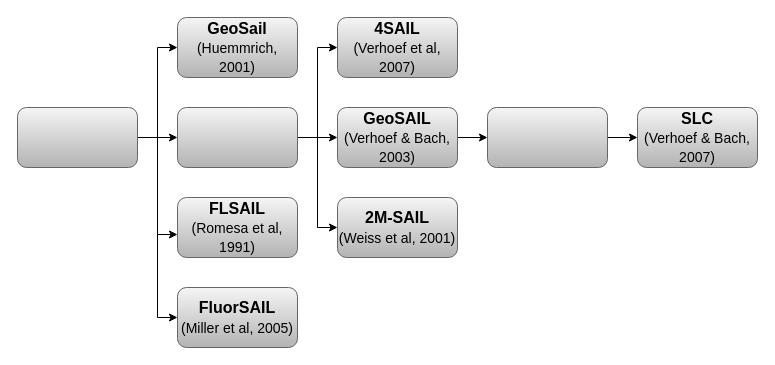
The diagram is 775 pixels wide and 365 high, and some of its shapes have lost their labels. The centre of each missing label's shape, as x and y in pixels:
"4SAIL2 (Verhoef & Bach, 2007)" goes at pixel 547 137.
"SAIL (Verhoef, 1984)" goes at pixel 77 137.
"SAILH (Kuusk, 1985)" goes at pixel 237 137.
